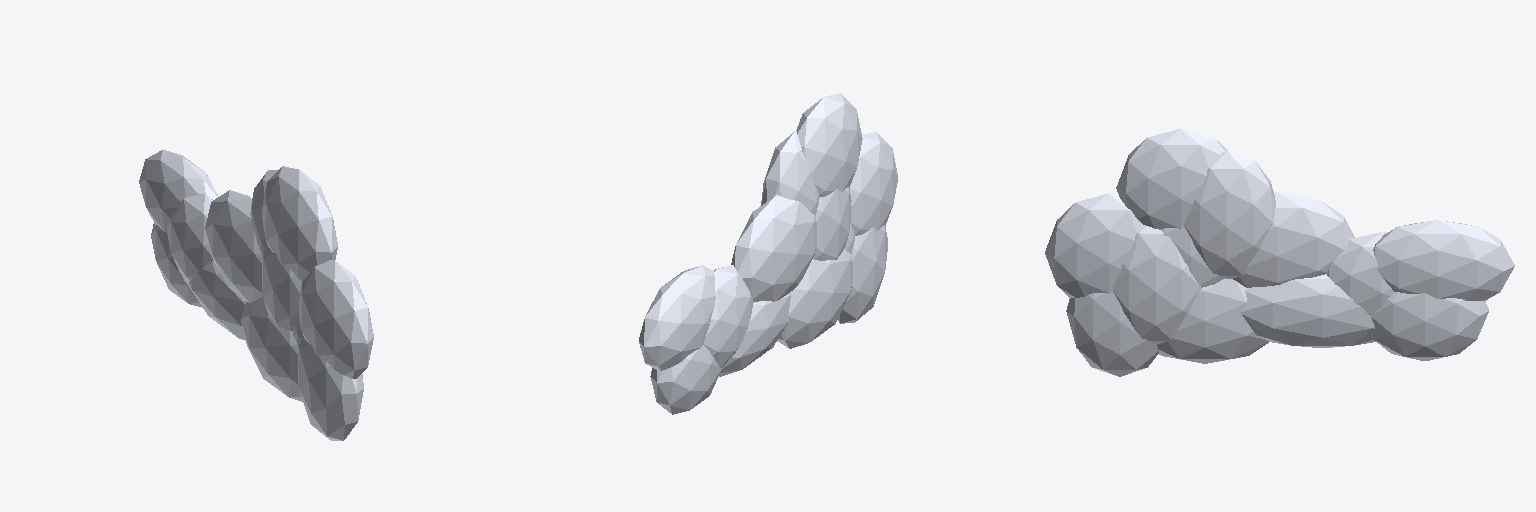
Rendered from nuage.obj.
3 views of the same model, side by side, from view 1: azimuth 30°, elevation 25°; view 2: azimuth 150°, elevation 25°; view 3: azimuth 270°, elevation 25° (orthographic).
Visible parts, largest first — view 1: mergedBlocks; view 2: mergedBlocks; view 3: mergedBlocks.
Part boxes in pixels (x1,y1,x2,y2): mergedBlocks: (139,150,373,440); mergedBlocks: (639,93,897,414); mergedBlocks: (1045,129,1514,376).
Bounding box in the file's own units: 0.9 × 3.84 × 6.58.